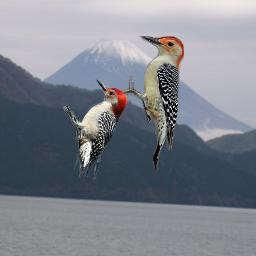Woodpecker: (116, 36, 184, 170), (59, 77, 130, 181)
